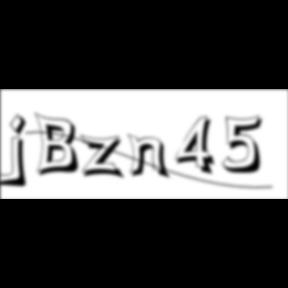4: (174, 115, 222, 179)
5: (222, 114, 268, 176)
B: (35, 111, 85, 179)
j: (7, 113, 34, 191)
n: (128, 132, 174, 181)
z: (80, 134, 130, 182)
